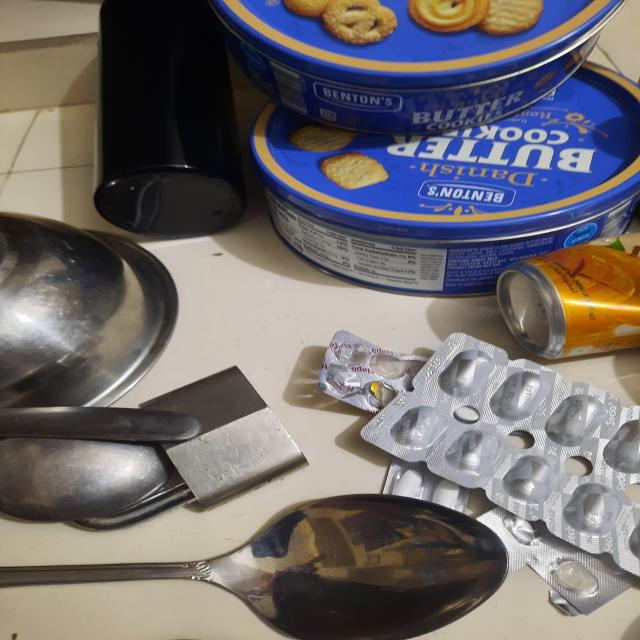Medical Waste: (343, 329, 640, 516)
Metal: (0, 186, 321, 535), (2, 518, 508, 640)
can: (228, 0, 640, 329)
